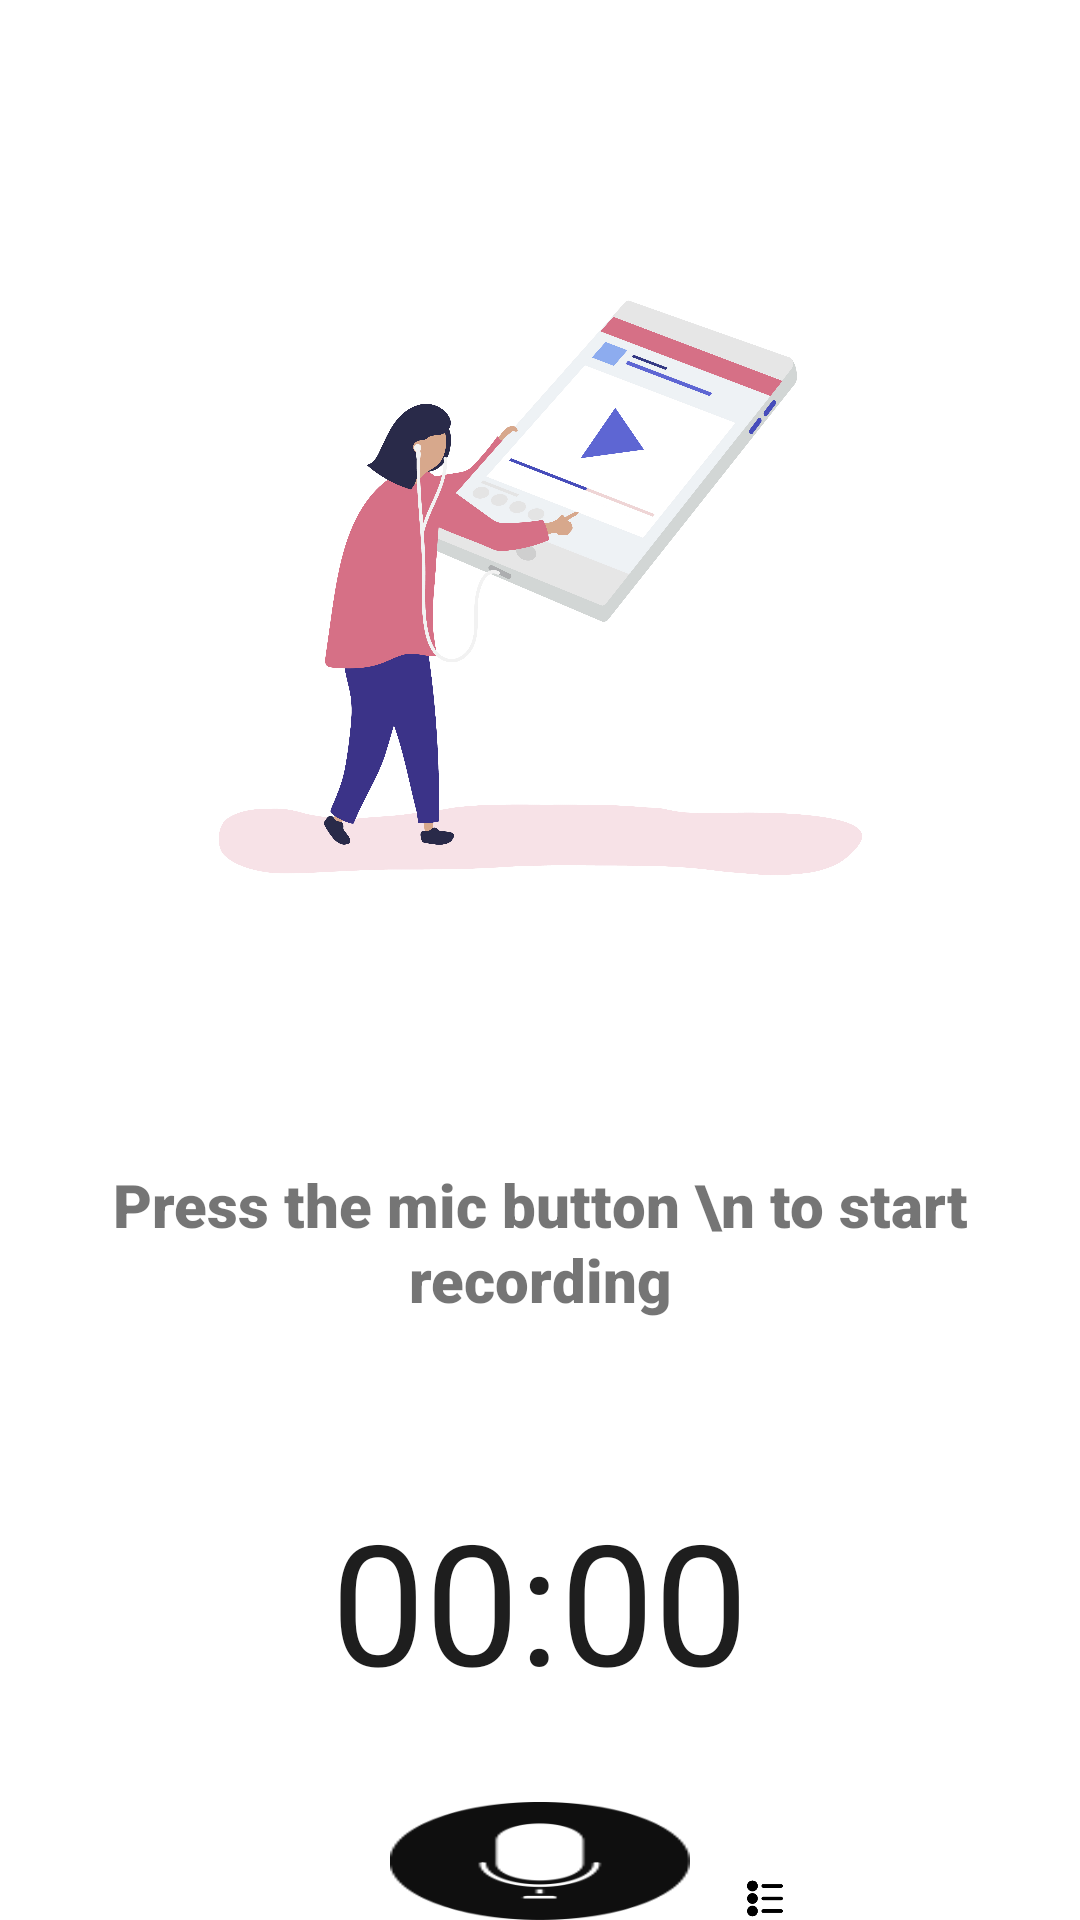

Where icons sit on this 1080w x 1920h app screen, as box(x1, y1, x2, y2):
list: box(747, 1880, 783, 1917)
mic re: box(390, 1802, 690, 1920)
